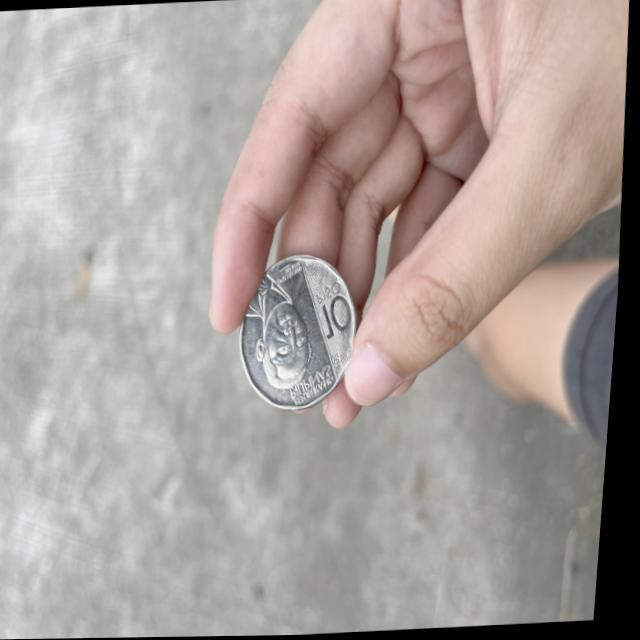10_New_Front: (311, 279, 360, 343)
